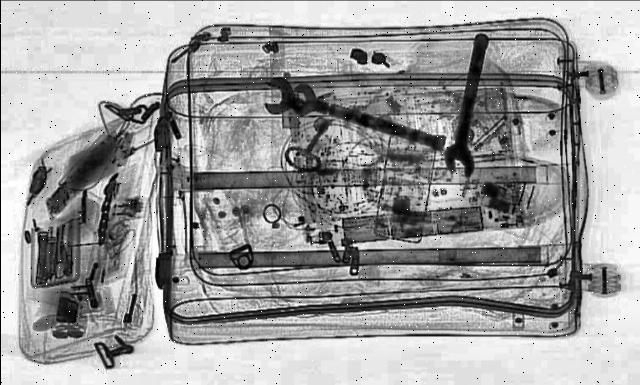Wrench: (270, 79, 458, 155), (439, 32, 497, 176)
